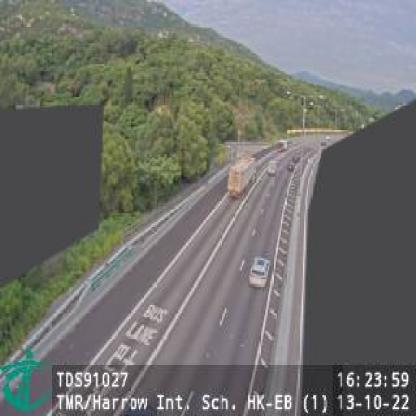Car: (250, 255, 270, 287), (267, 160, 280, 177), (287, 159, 296, 173)
Truck: (227, 155, 256, 201)
